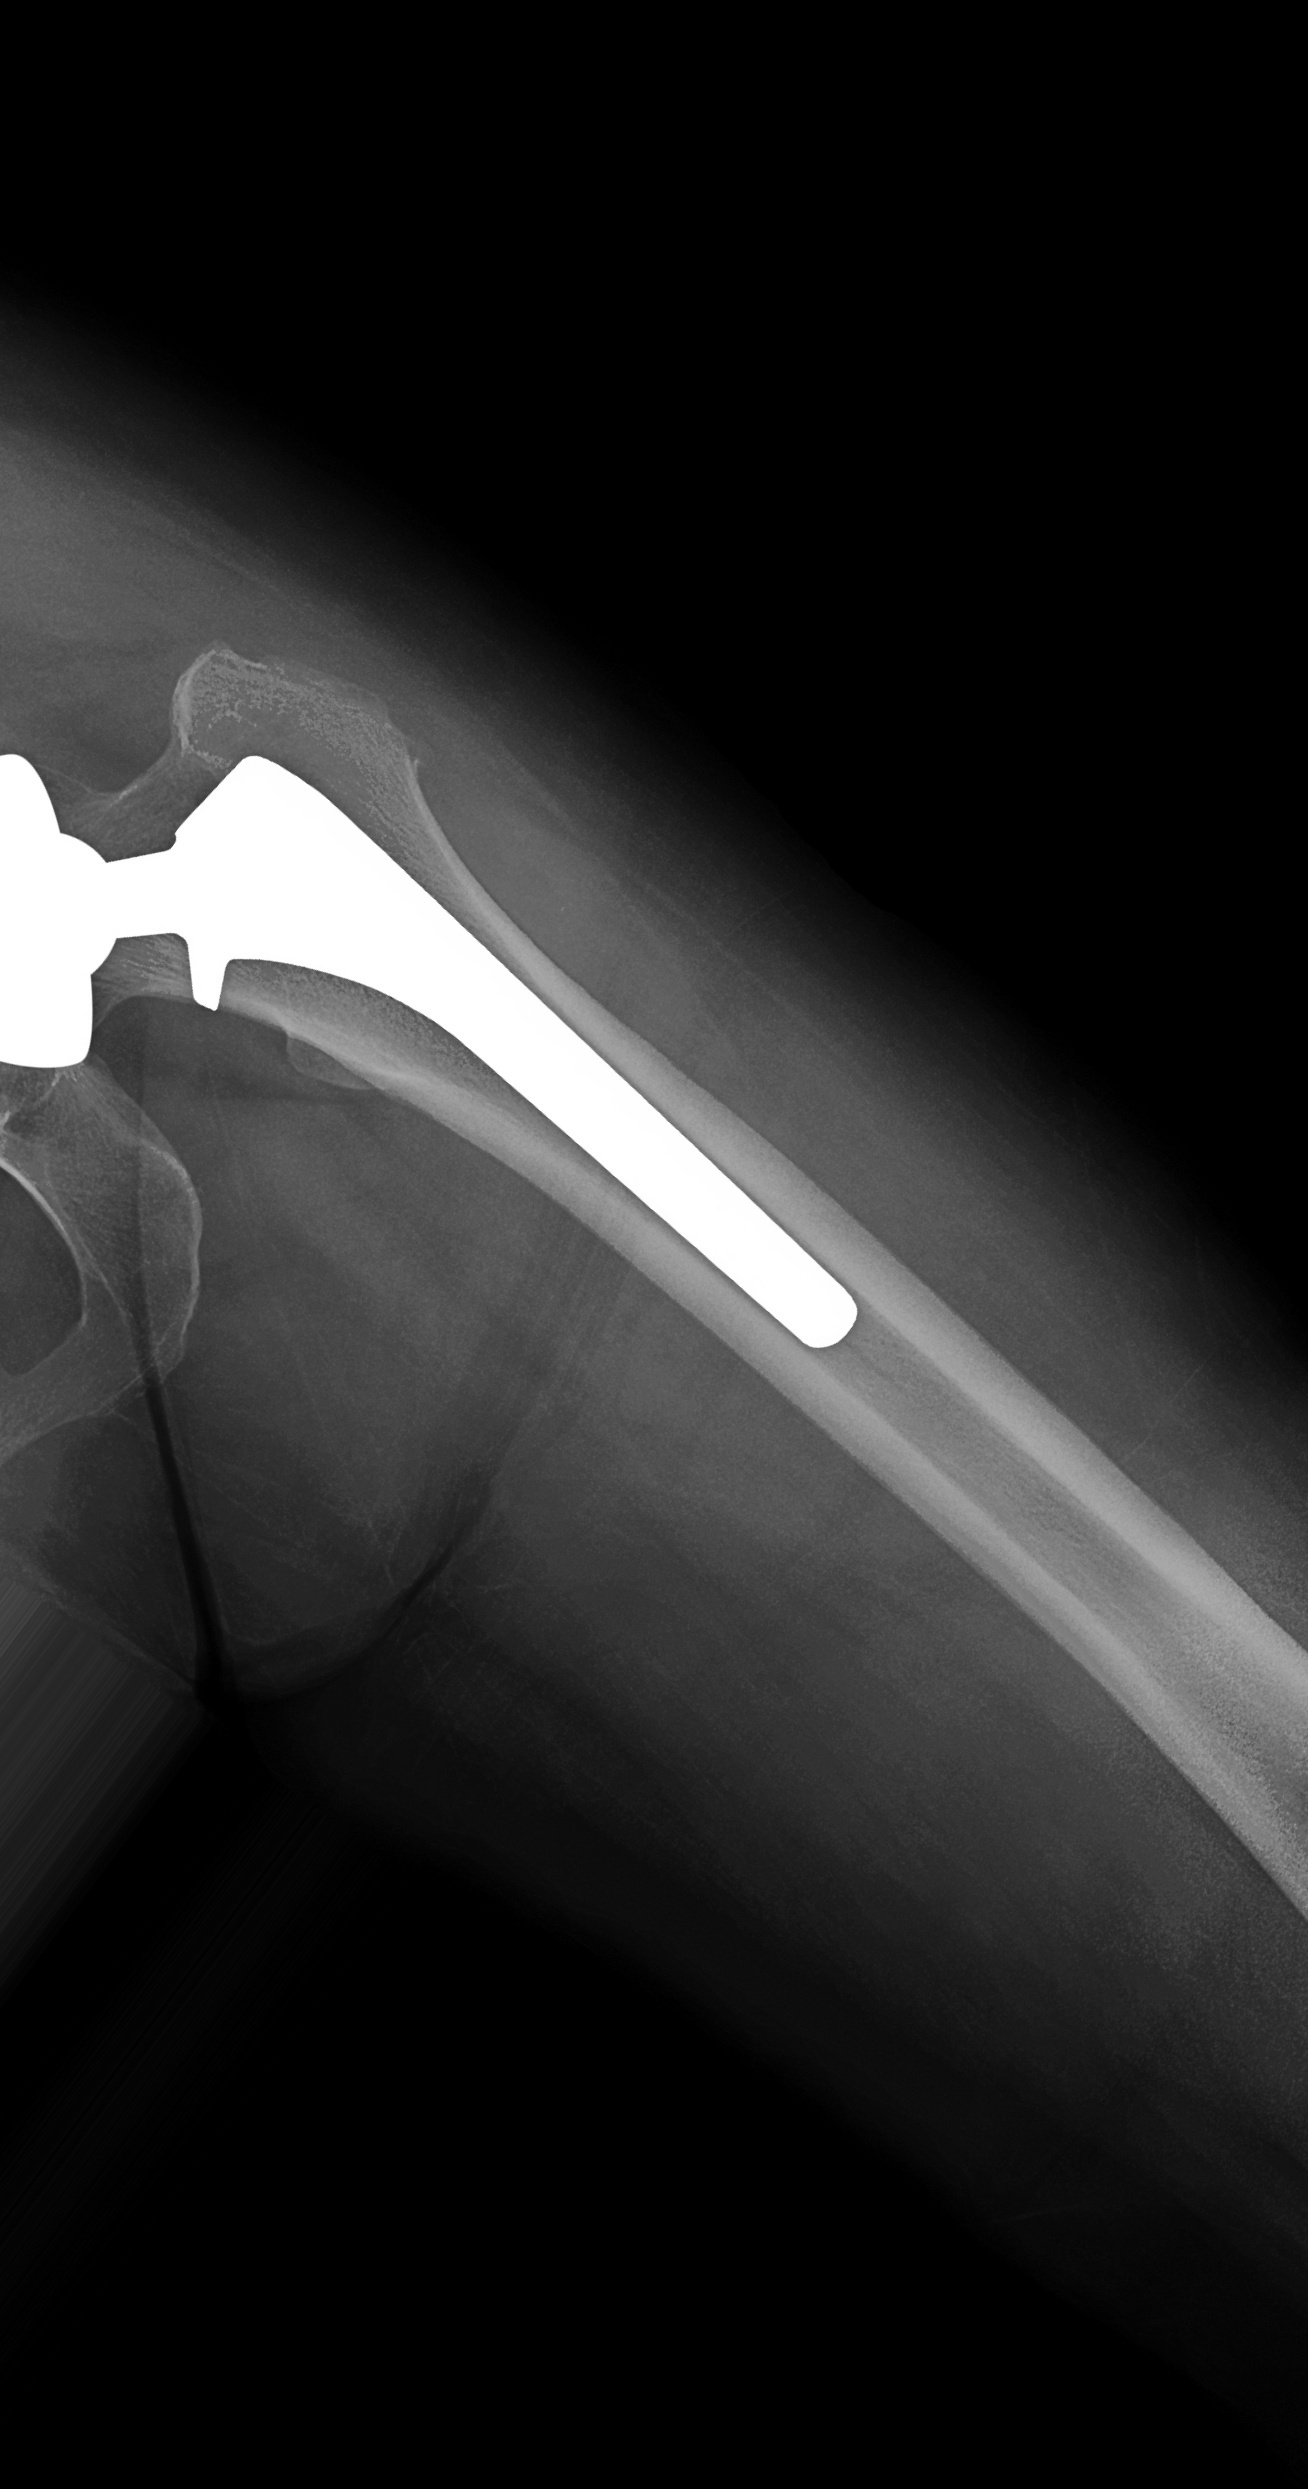Hip - APR - Zimmer: (2, 691, 907, 1424)
